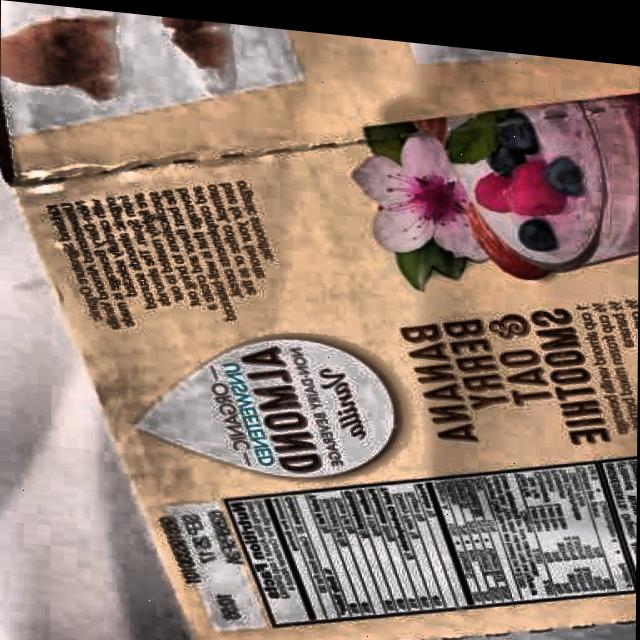cardboard: (0, 1, 640, 640)
